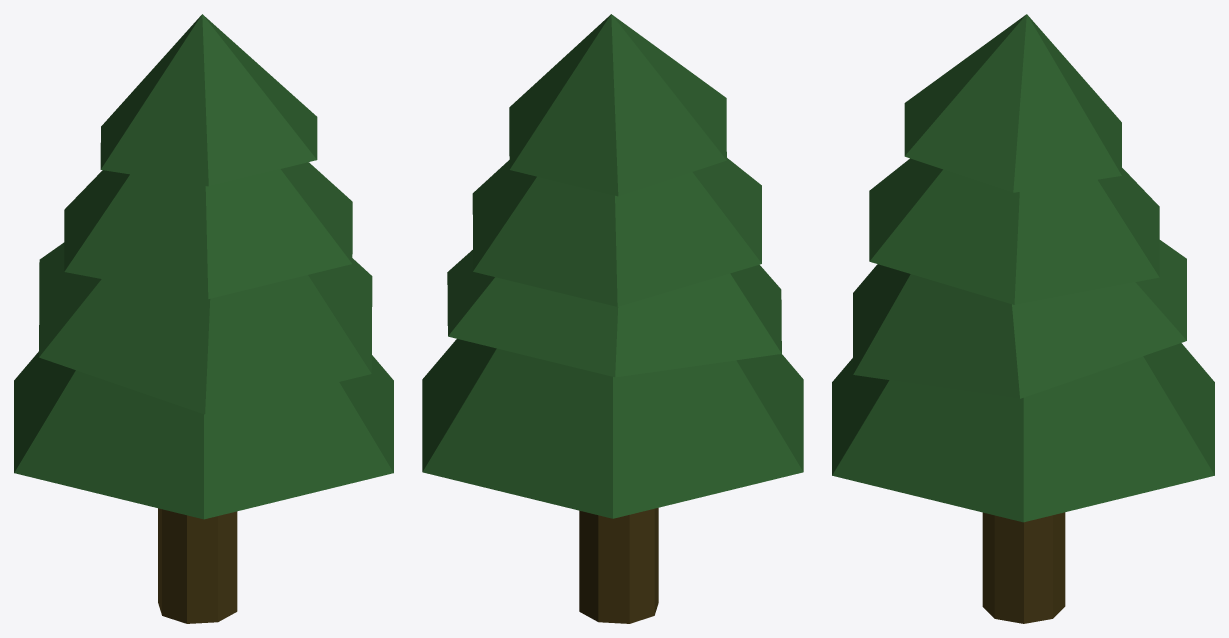
Rendered from tree4.fbx.
3 renders of one model, left to right at view 1: azimuth 30°, elevation 25°; view 2: azimuth 150°, elevation 25°; view 3: azimuth 270°, elevation 25°, orthographic.
Visible parts, largest first — view 1: tree, tronc_1_2_6; view 2: tree, tronc_1_2_6; view 3: tree, tronc_1_2_6.
Boxes of the visible parts, bbox=[...] form: tree: bbox=[14, 14, 393, 519]; tronc_1_2_6: bbox=[158, 508, 237, 623]; tree: bbox=[422, 14, 803, 518]; tronc_1_2_6: bbox=[579, 508, 658, 623]; tree: bbox=[832, 14, 1214, 522]; tronc_1_2_6: bbox=[982, 512, 1065, 623].
Size of the model in its own units: 7.49 by 11.13 by 6.48.
